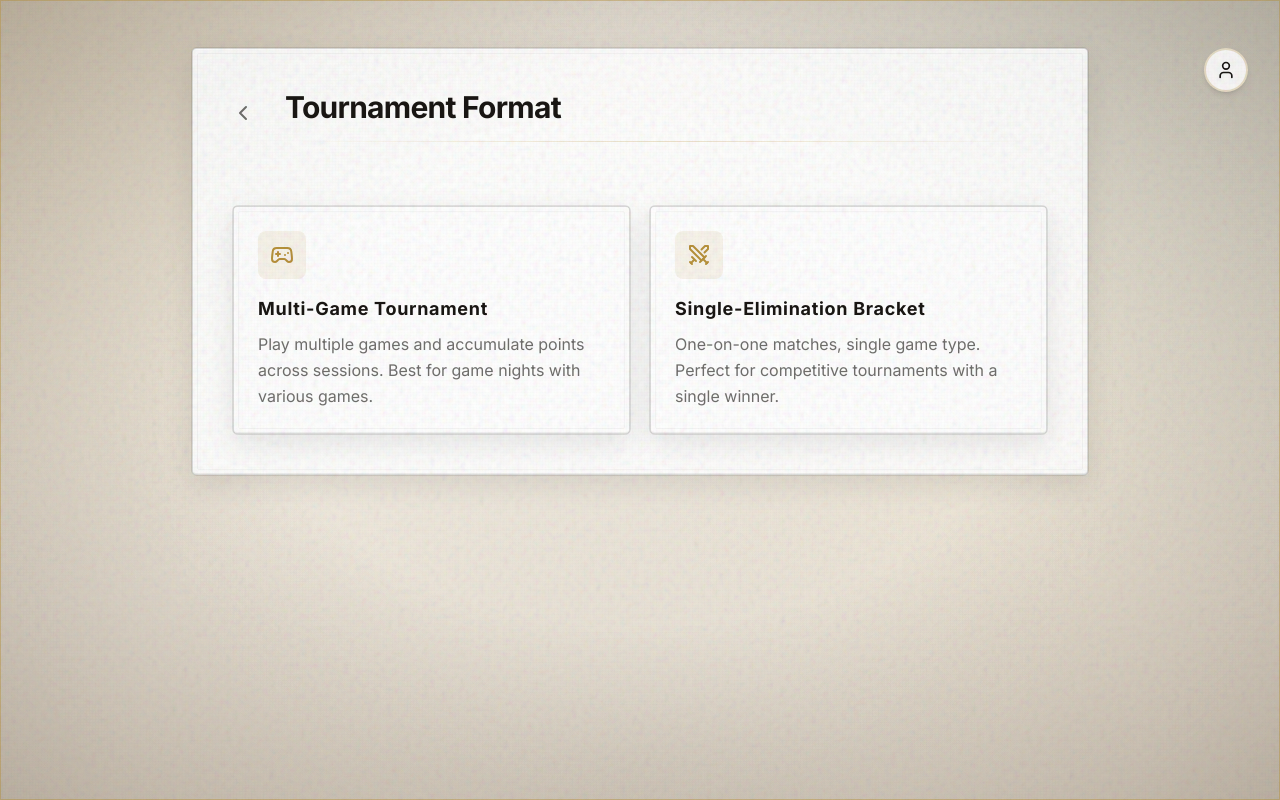
Test case: NewTournament › allows navigation back through steps
// Select format
What coordinates should you click on to do the following:
click the button "Multi-Game Tournament"
I would click on:
 (432, 320)
Its box is [233,206,630,434].
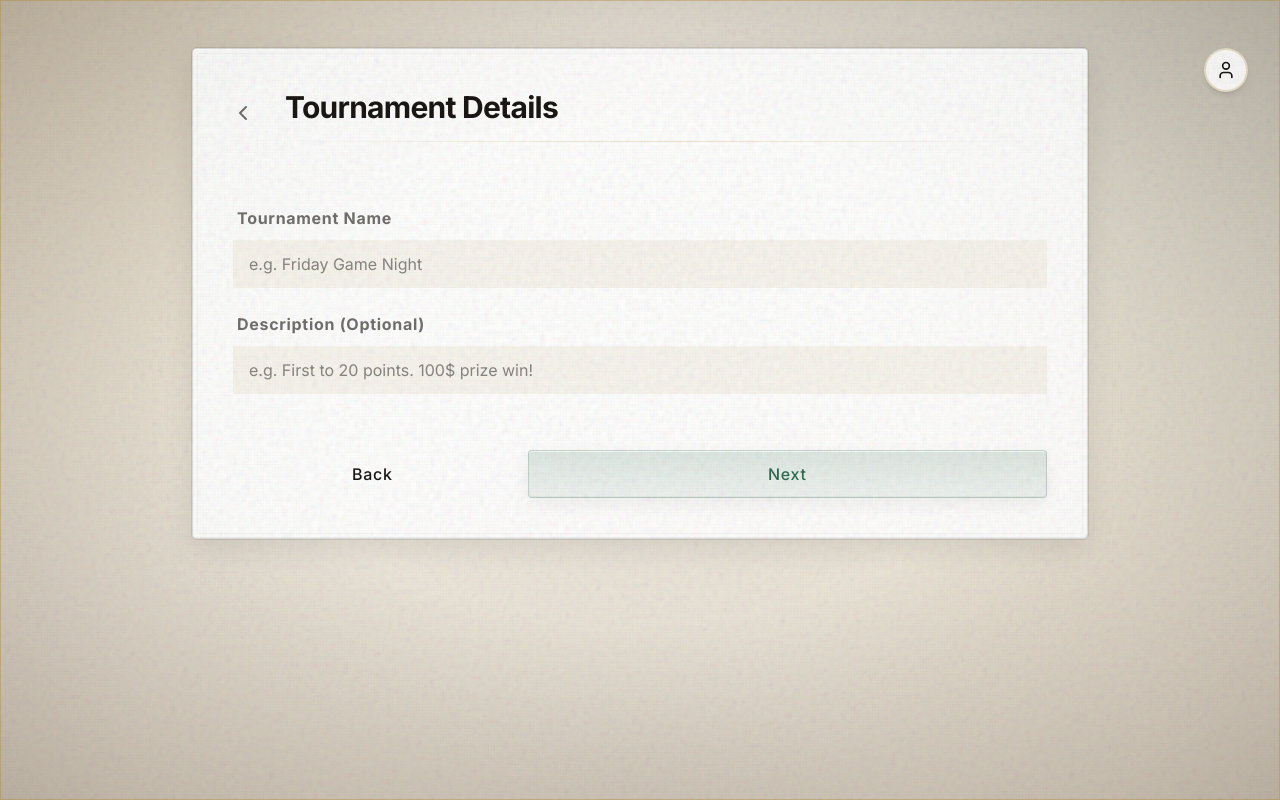
expect the heading "Tournament Details" is shown: met, box [285,89,558,125]
// Go back to step 1
What coordinates should you click on to do the following:
click the button "Back"
I would click on:
 (372, 474)
Its box is [233,450,512,498].
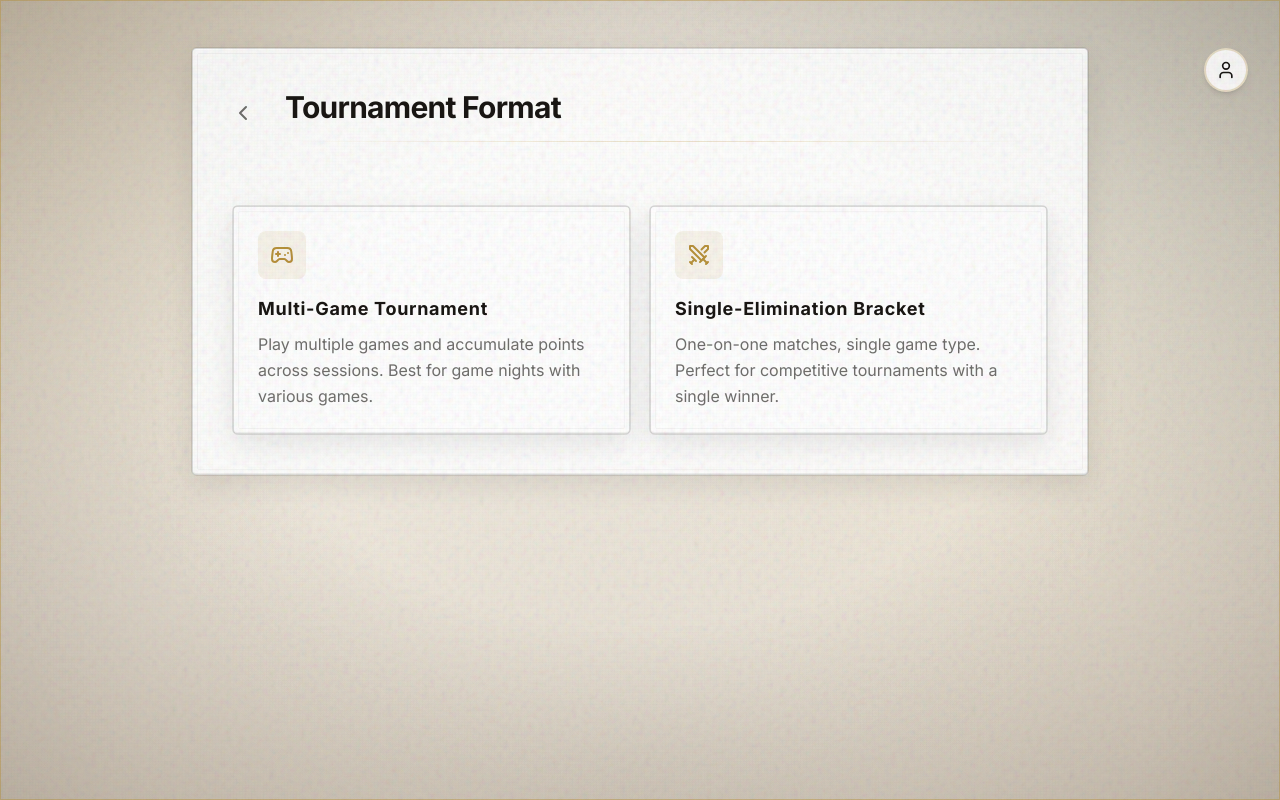
expect the heading "Tournament Format" is shown: met, box [285,89,561,125]
